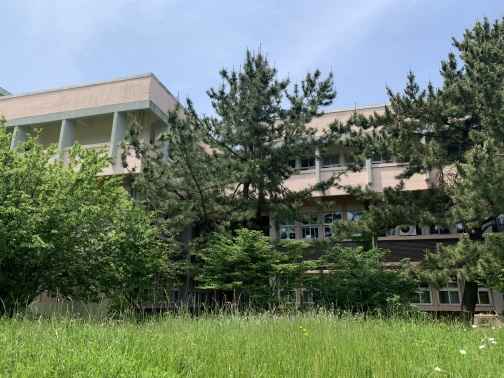College Of Education: (2, 77, 504, 319)
